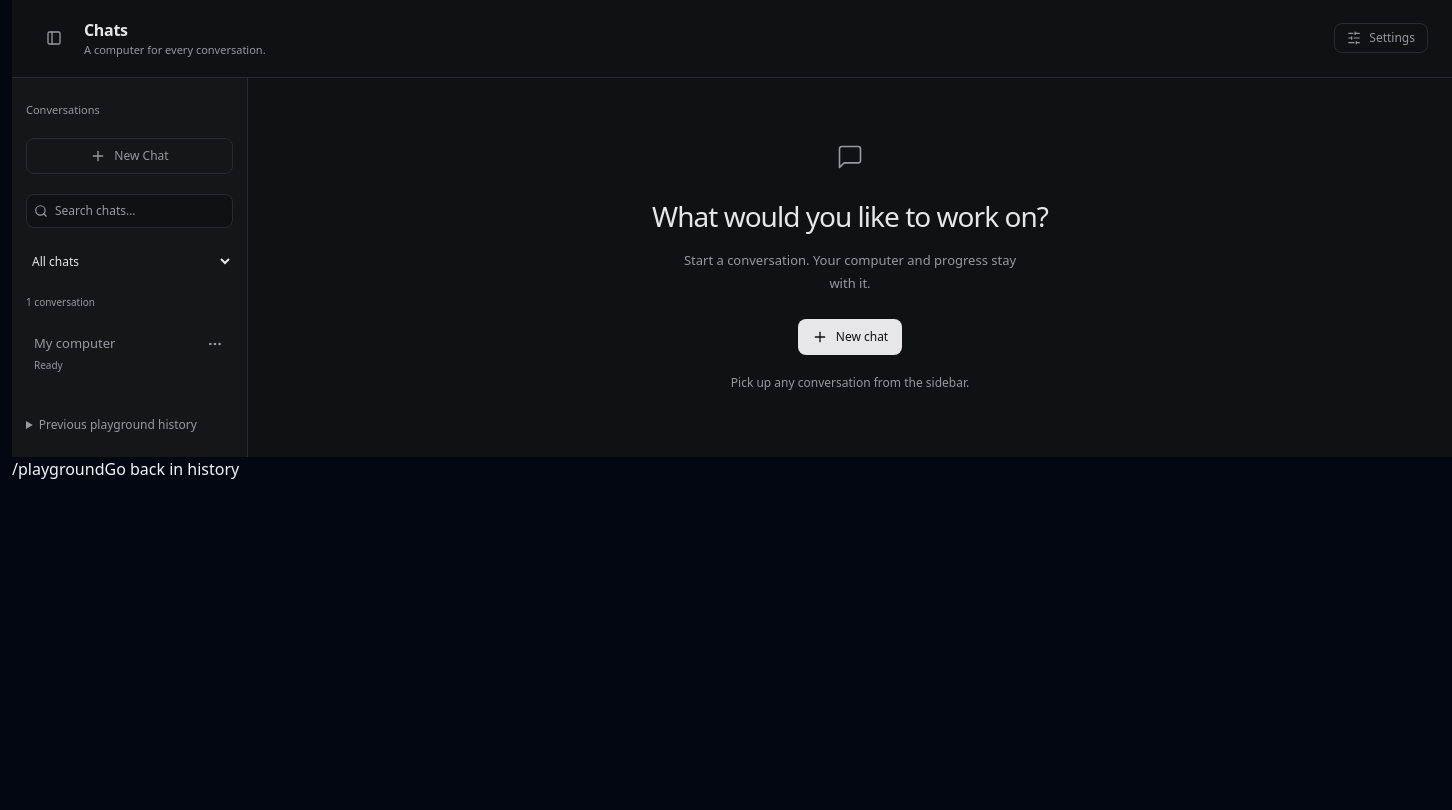
durable chat workspace integration › opens the retained transcript and timeline from the scoped library
The width and height of the screenshot is (1452, 810).
Click the text "My computer". click: click(75, 344)
box: [34, 334, 116, 354]
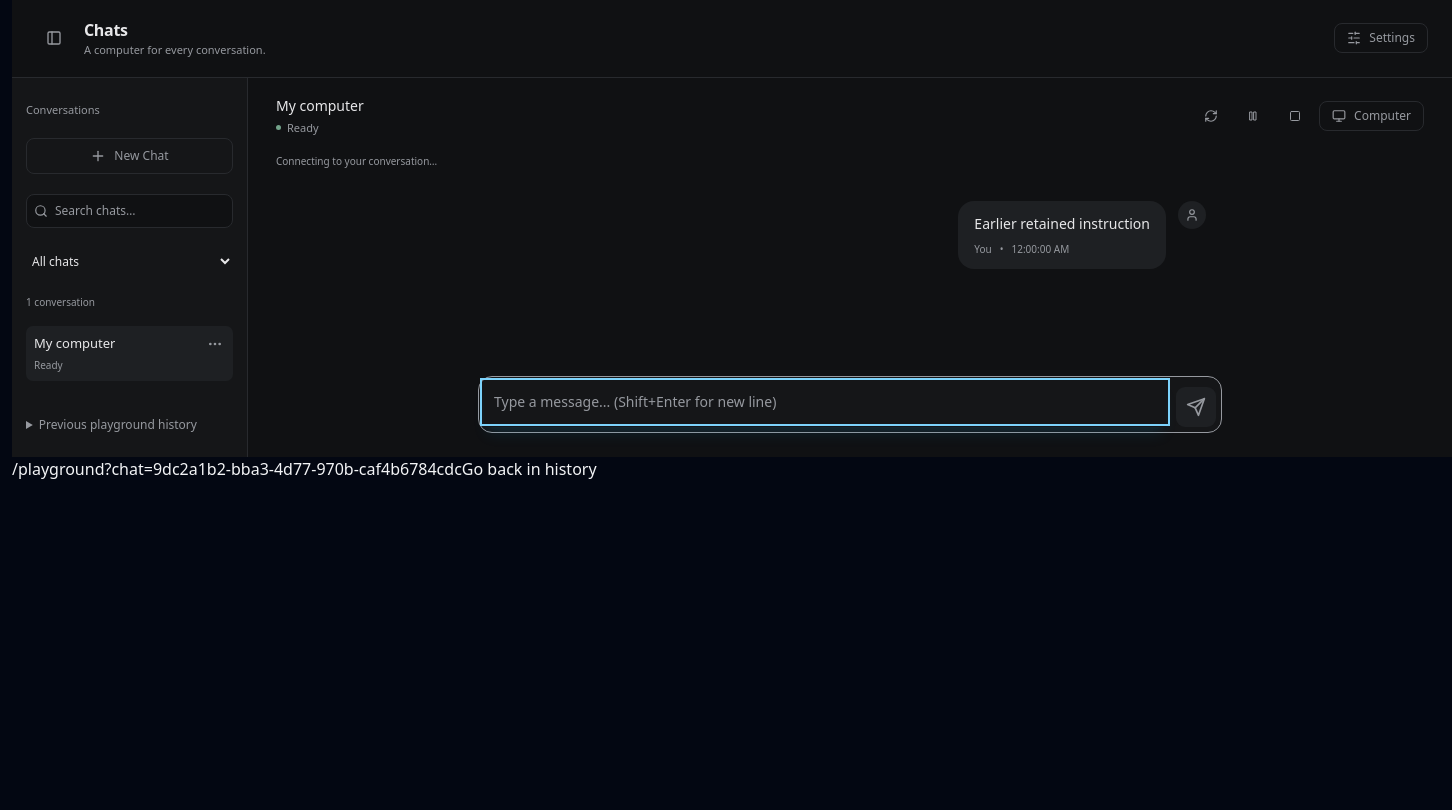
Result: the text "Earlier retained instruction" is shown at [974, 213, 1150, 236]
Click the button with aria-label "Show computer details". click: click(1372, 116)
box: [1319, 101, 1424, 131]
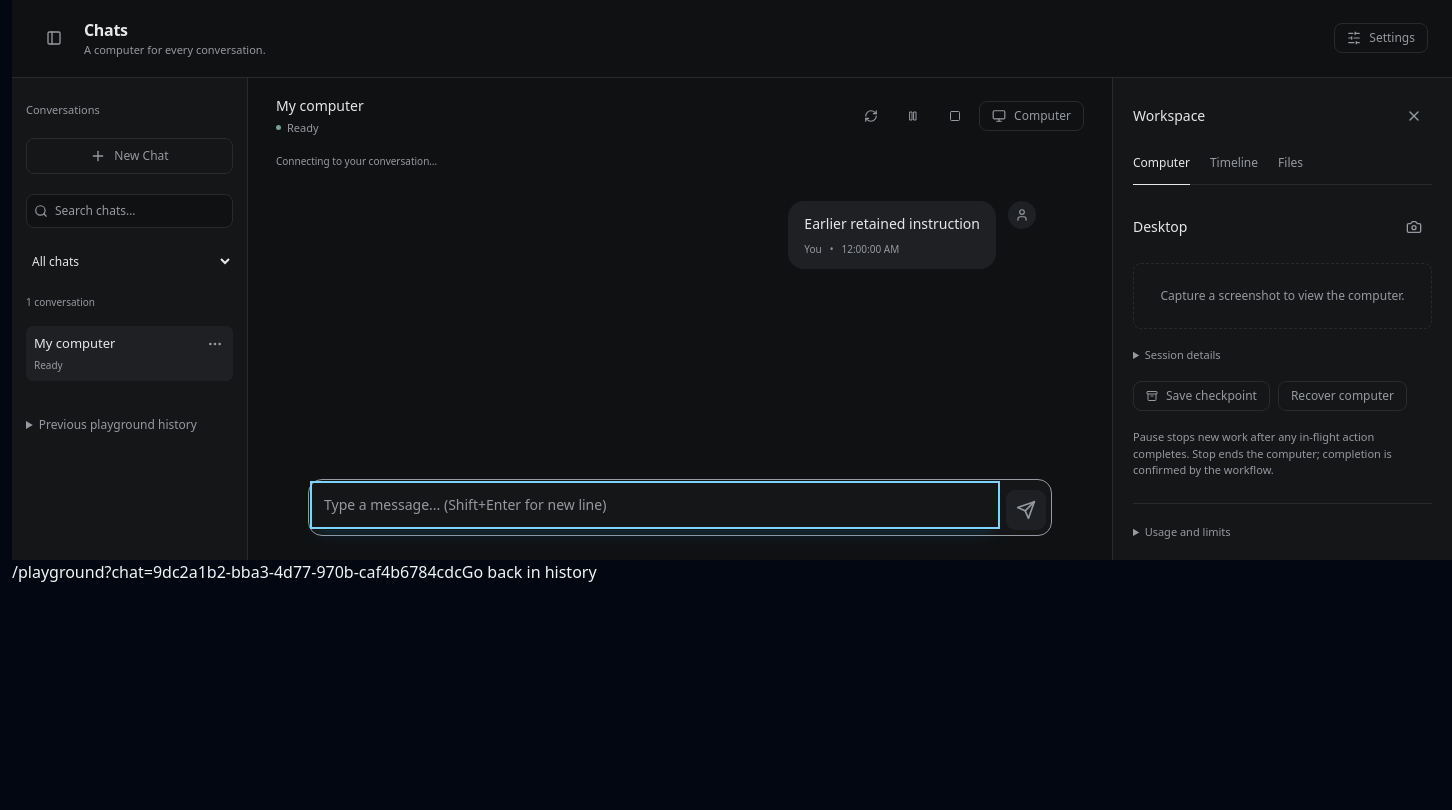
Click the tab "Timeline". click: click(1234, 169)
box: [1210, 154, 1258, 184]
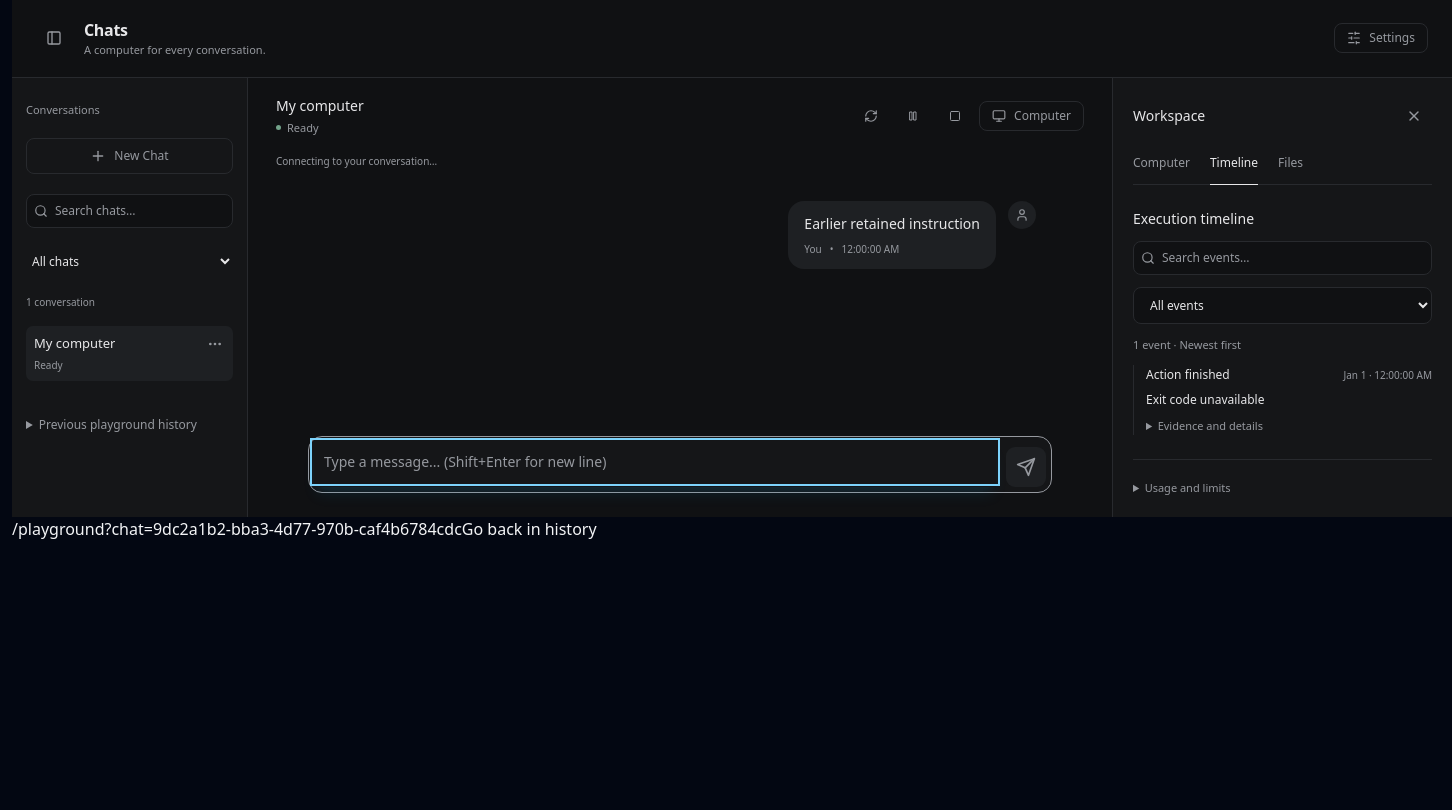
Result: the heading "Action finished" is shown at [1146, 365, 1230, 384]
